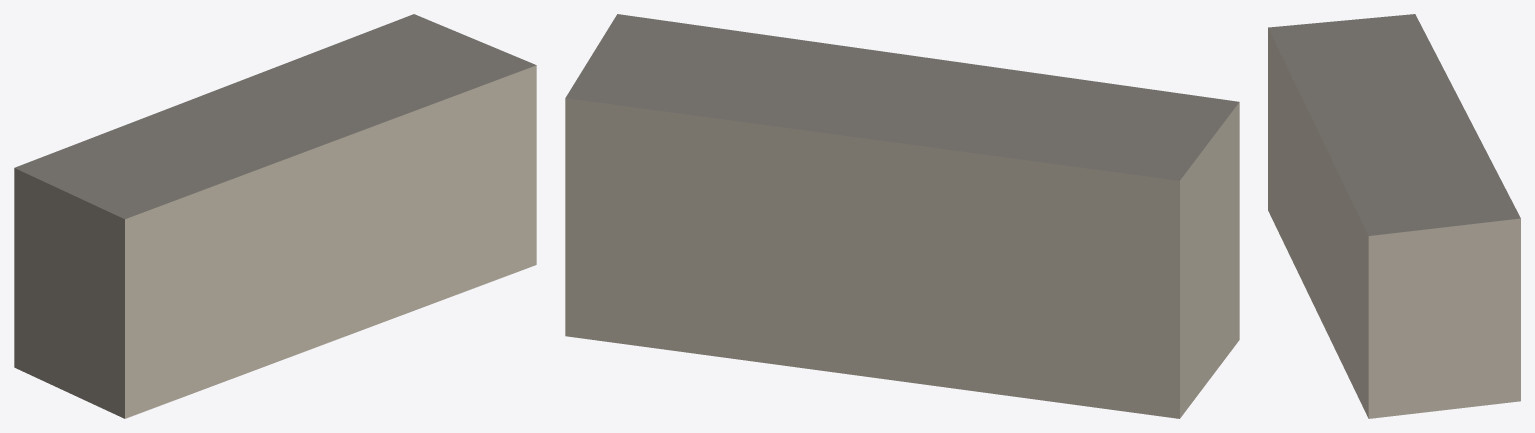
The picture shows the model from 3 angles, left to right: view 1: azimuth 30°, elevation 25°; view 2: azimuth 150°, elevation 25°; view 3: azimuth 270°, elevation 25°; orthographic projection. The views are drawn at different scales.
Parts seen in each view (by area): view 1: HP-w505661365; view 2: HP-w505661365; view 3: HP-w505661365.
Boxes of the visible parts, x1,y1,x2,y2 form: HP-w505661365: (14, 14, 536, 418); HP-w505661365: (565, 14, 1239, 418); HP-w505661365: (1268, 14, 1520, 418).
Bounding box in the file's own units: 31.26 × 12 × 15.05.
